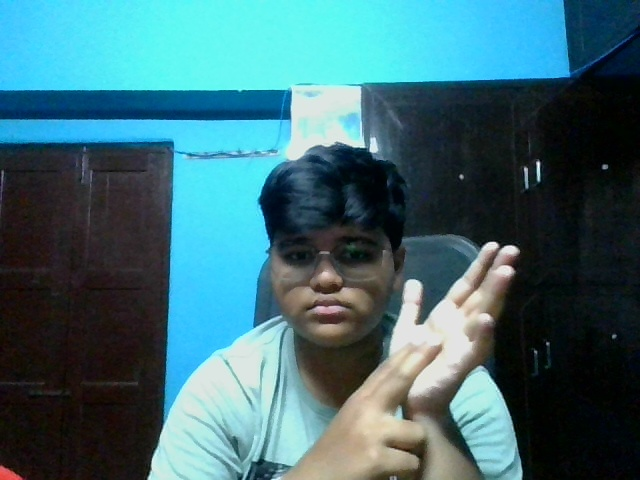N: (340, 233, 529, 480)
